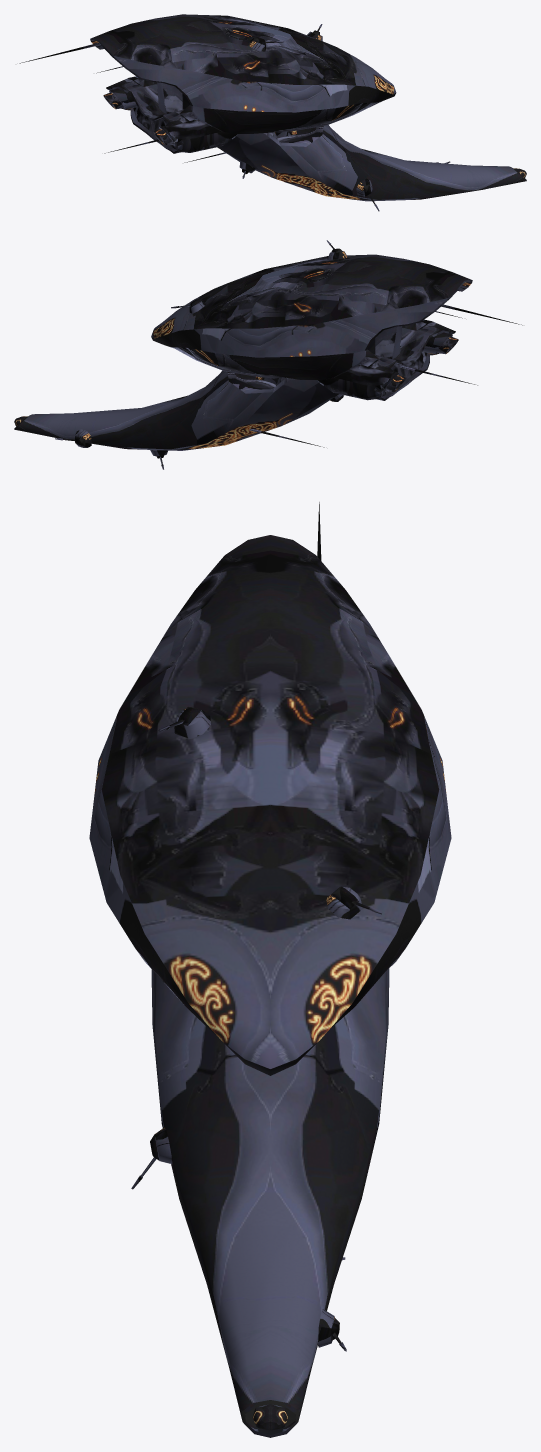
The model's file is DefenseVessel.obj.
3 views of the same model, one above another, from view 1: azimuth 30°, elevation 25°; view 2: azimuth 150°, elevation 25°; view 3: azimuth 270°, elevation 25° (orthographic). The views are drawn at different scales.
Visible parts, largest first — view 1: Mesh01; view 2: Mesh01; view 3: Mesh01.
Part boxes in pixels (left/top/right/bottom): Mesh01: left=19, top=14, right=526, bottom=211; Mesh01: left=14, top=240, right=522, bottom=469; Mesh01: left=89, top=502, right=451, bottom=1437.
Size of the model in its own units: 2.33 by 1.08 by 0.7313.
